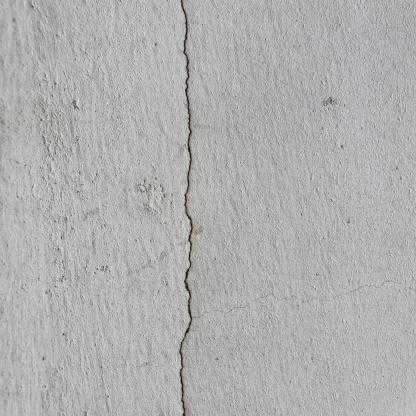crack: (179, 0, 193, 416)
